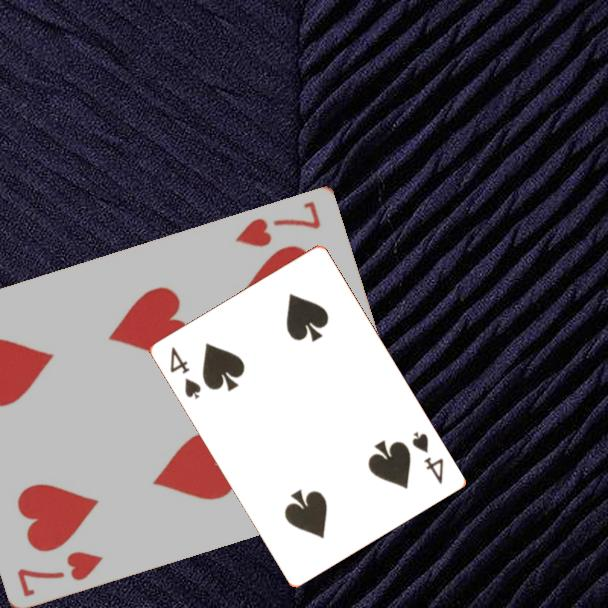h07: (231, 197, 324, 250), (13, 547, 107, 599)
s04: (166, 343, 204, 402), (408, 428, 446, 487)
